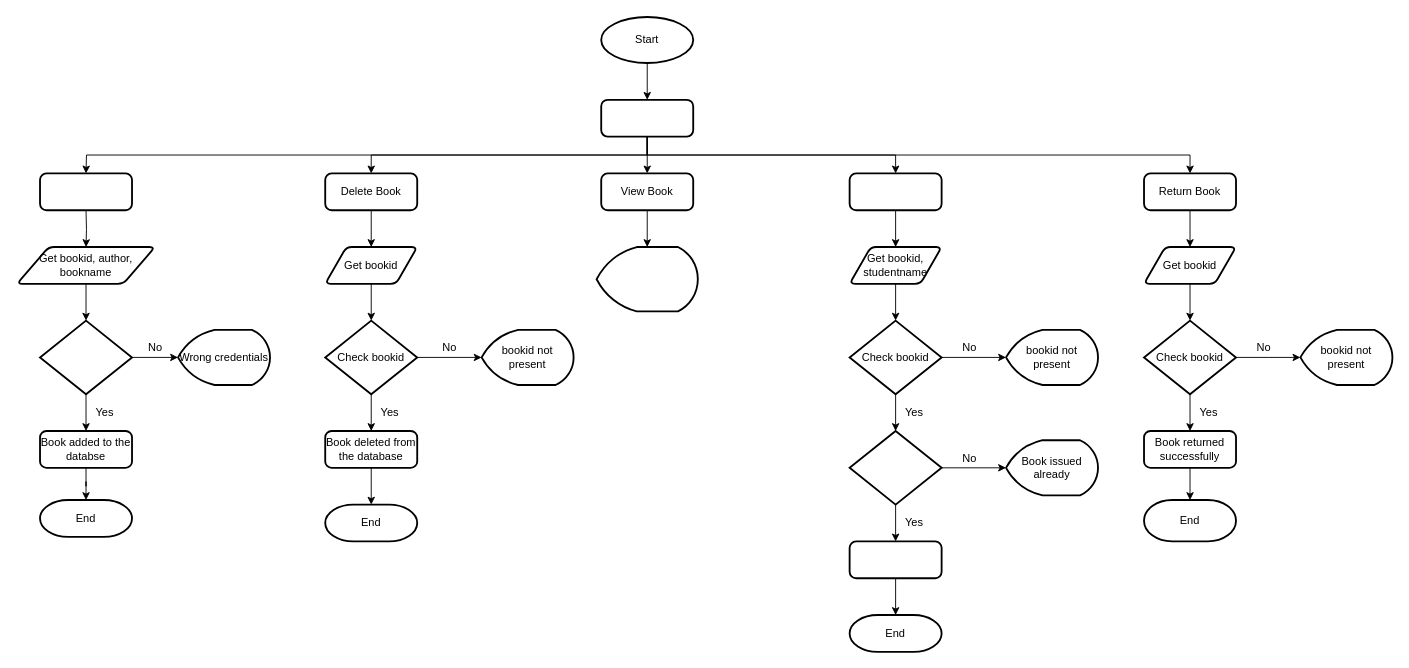
This 1409x668 diagram has some shape labels left out. Here are the shapes that lost their labels. From the top down, the box of each, then its label:
(600, 98, 694, 137): HomePage
(39, 172, 132, 211): Add Book Details
(848, 172, 942, 211): Issue Book
(595, 246, 698, 312): Displays all the books present in the databse
(39, 319, 132, 395): Check credentials
(848, 430, 942, 505): Check status
(848, 540, 942, 579): Book issued successfully
